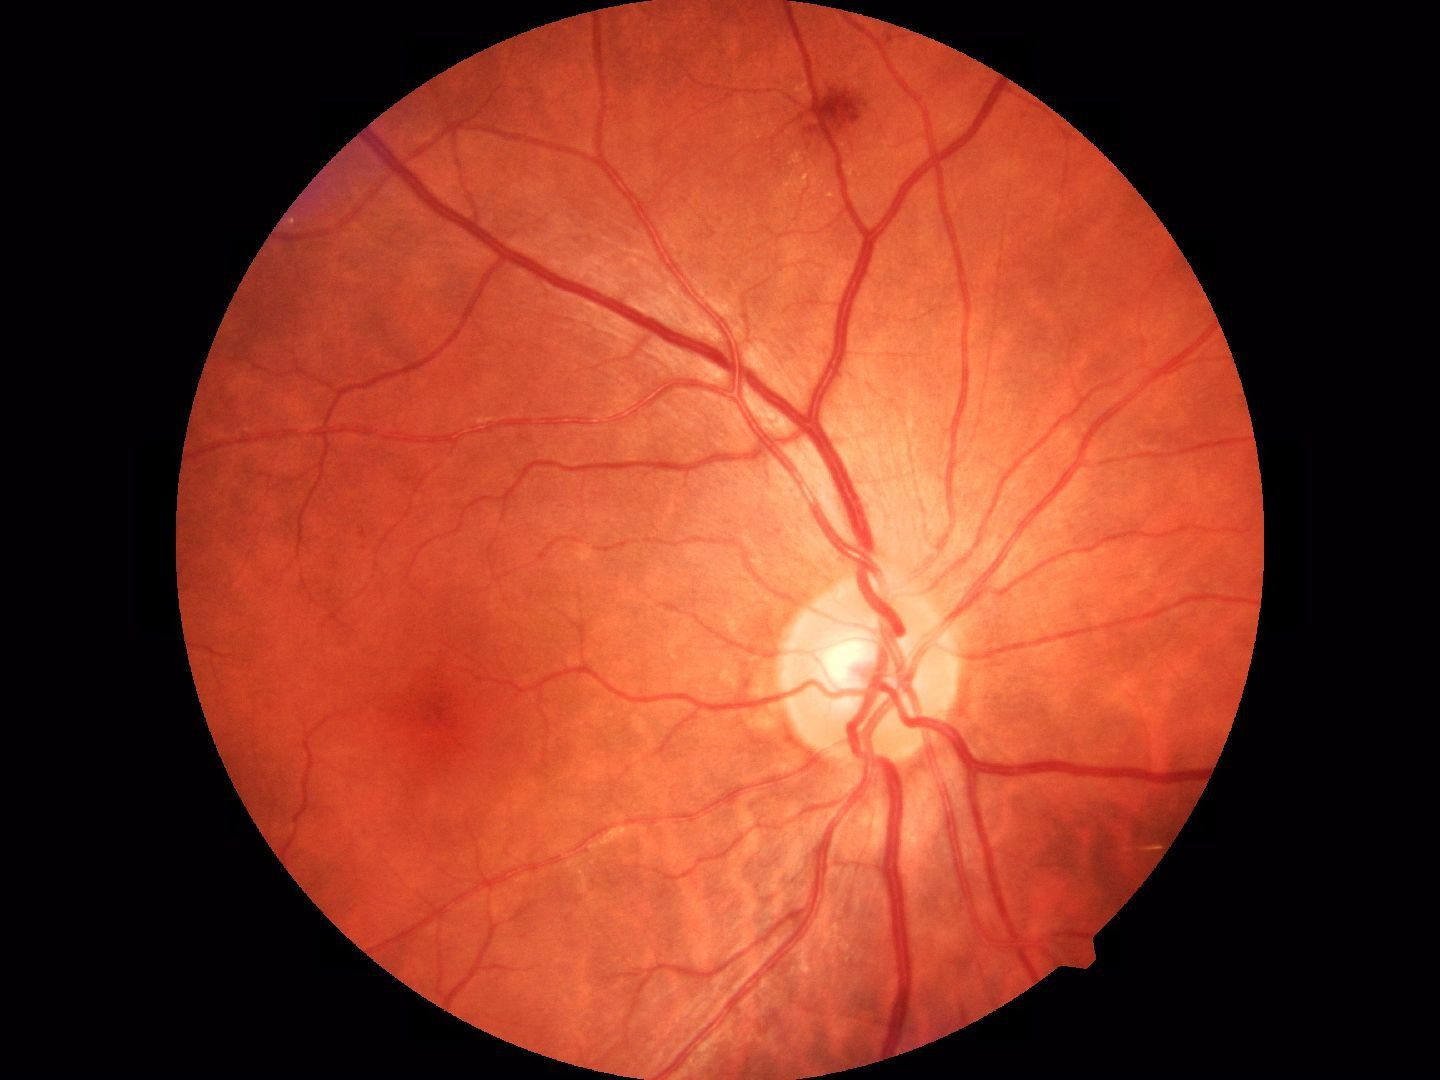Arterioles: (959, 385, 1225, 571)
Hemorrhages: (317, 642, 564, 810)
Microaneurysms: (789, 76, 880, 142)
Optic-Disc: (772, 560, 971, 774)
Venules: (581, 272, 895, 490), (823, 812, 1020, 988)
